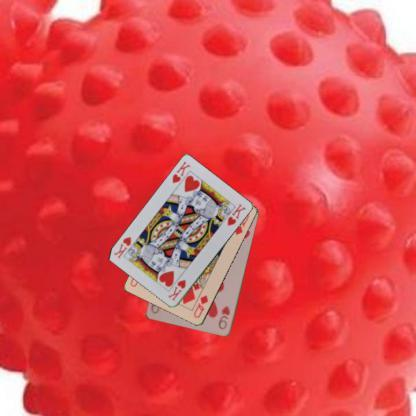9h: (216, 303, 231, 330)
Kh: (169, 159, 192, 185), (165, 278, 187, 302)
Qd: (192, 292, 210, 320)
